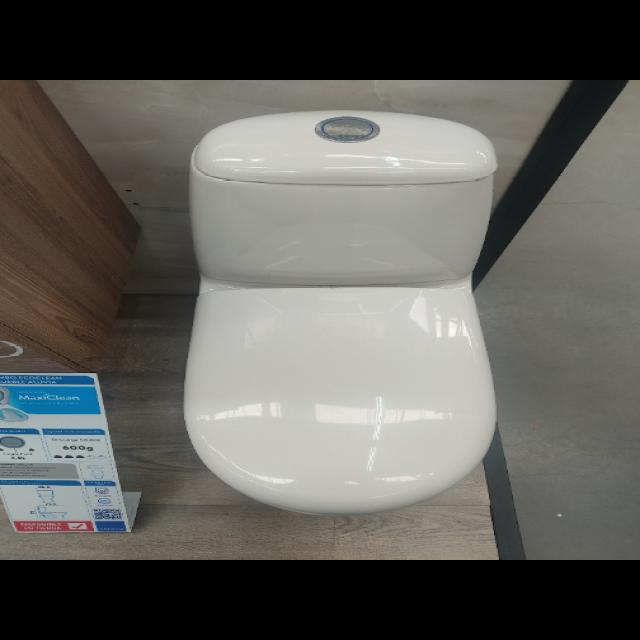toilet: (182, 108, 498, 516)
